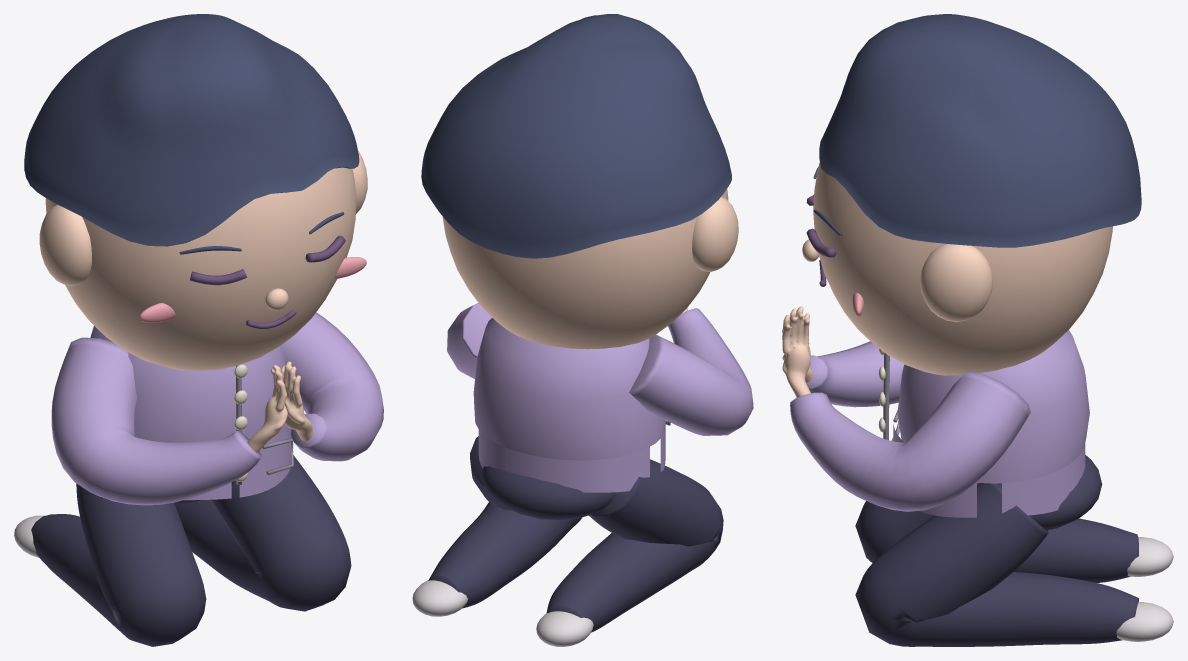
File: meditator_male_kneel_prayer_sidepart73_p07b1.glb
3 views of the same model, side by side, from view 1: azimuth 30°, elevation 25°; view 2: azimuth 150°, elevation 25°; view 3: azimuth 270°, elevation 25° (orthographic). The views are drawn at different scales.
Parts seen in each view (by area): view 1: hair_male_sidepart73_integrated_p07b1_object, ao_ba_ba_top_UpperBodyBreath_object, skin_rose_cream_UpperBodyBreath_object, ao_ba_ba_pants_SeatRoot_object, eyes_mauve_UpperBodyBreath_object, skin_blush_UpperBodyBreath_object, sandal_trim_SeatRoot_object, ao_ba_ba_placket_UpperBodyBreath_object; view 2: hair_male_sidepart73_integrated_p07b1_object, ao_ba_ba_top_UpperBodyBreath_object, ao_ba_ba_pants_SeatRoot_object, skin_rose_cream_UpperBodyBreath_object, sandal_trim_SeatRoot_object; view 3: hair_male_sidepart73_integrated_p07b1_object, ao_ba_ba_top_UpperBodyBreath_object, ao_ba_ba_pants_SeatRoot_object, skin_rose_cream_UpperBodyBreath_object, sandal_trim_SeatRoot_object, ao_ba_ba_placket_UpperBodyBreath_object, eyes_mauve_UpperBodyBreath_object.
Part boxes in pixels (x1=…): hair_male_sidepart73_integrated_p07b1_object: x1=24, y1=14, x2=359, y2=254; ao_ba_ba_top_UpperBodyBreath_object: x1=51, y1=312, x2=383, y2=505; skin_rose_cream_UpperBodyBreath_object: x1=39, y1=150, x2=367, y2=452; ao_ba_ba_pants_SeatRoot_object: x1=31, y1=455, x2=351, y2=646; eyes_mauve_UpperBodyBreath_object: x1=190, y1=235, x2=345, y2=328; skin_blush_UpperBodyBreath_object: x1=139, y1=257, x2=366, y2=322; sandal_trim_SeatRoot_object: x1=14, y1=515, x2=44, y2=557; ao_ba_ba_placket_UpperBodyBreath_object: x1=236, y1=364, x2=294, y2=485; hair_male_sidepart73_integrated_p07b1_object: x1=421, y1=14, x2=731, y2=258; ao_ba_ba_top_UpperBodyBreath_object: x1=447, y1=303, x2=753, y2=492; ao_ba_ba_pants_SeatRoot_object: x1=428, y1=436, x2=723, y2=632; skin_rose_cream_UpperBodyBreath_object: x1=442, y1=189, x2=738, y2=349; sandal_trim_SeatRoot_object: x1=412, y1=580, x2=593, y2=646; hair_male_sidepart73_integrated_p07b1_object: x1=813, y1=14, x2=1141, y2=247; ao_ba_ba_top_UpperBodyBreath_object: x1=790, y1=330, x2=1089, y2=517; ao_ba_ba_pants_SeatRoot_object: x1=855, y1=455, x2=1138, y2=646; skin_rose_cream_UpperBodyBreath_object: x1=782, y1=162, x2=1112, y2=397; sandal_trim_SeatRoot_object: x1=1116, y1=537, x2=1173, y2=641; ao_ba_ba_placket_UpperBodyBreath_object: x1=883, y1=353, x2=899, y2=440; eyes_mauve_UpperBodyBreath_object: x1=806, y1=194, x2=836, y2=286.
Size of the model in its own units: 0.672 by 1.19 by 0.7285.
